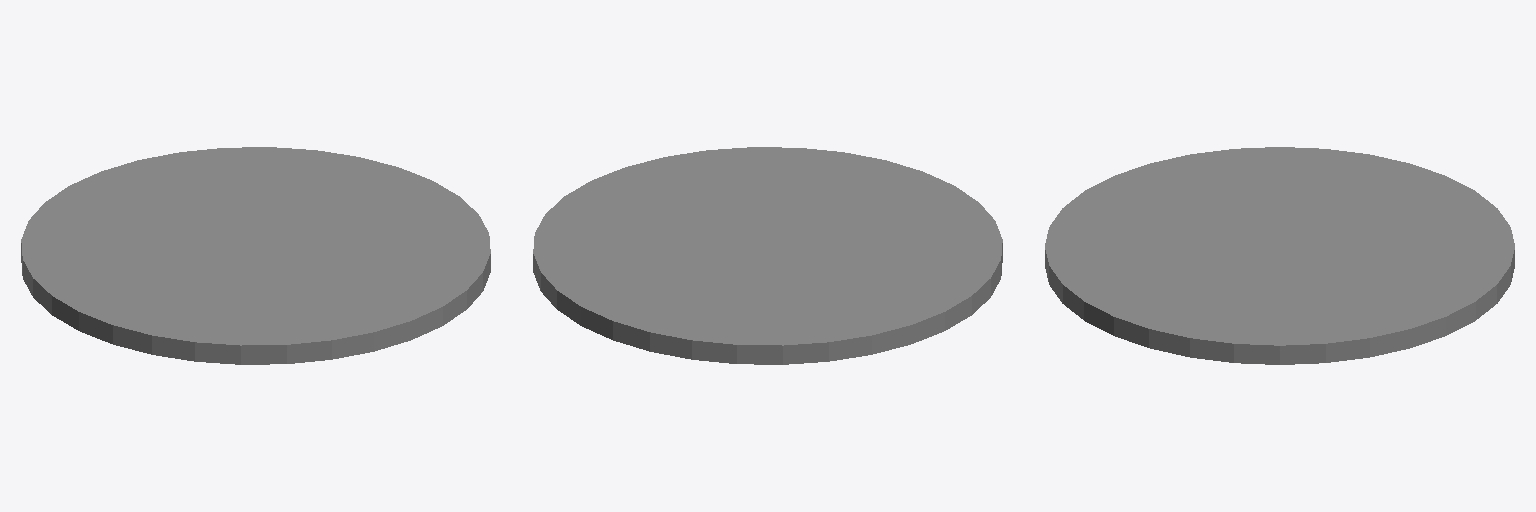
File: 97Newton.obj
3 renders of one model, left to right at view 1: azimuth 30°, elevation 25°; view 2: azimuth 150°, elevation 25°; view 3: azimuth 270°, elevation 25°, orthographic.
Parts seen in each view (by area): view 1: border_1, border_3_2; view 2: border_1, border_3_2; view 3: border_1, border_3_2.
Part boxes in pixels (x1,y1,x2,y2): border_1: (21, 147, 490, 345); border_3_2: (21, 243, 490, 364); border_1: (533, 147, 1002, 345); border_3_2: (533, 243, 1002, 364); border_1: (1045, 147, 1514, 345); border_3_2: (1045, 250, 1514, 364).
Size of the model in its own units: 6.99 by 0.3175 by 6.99.